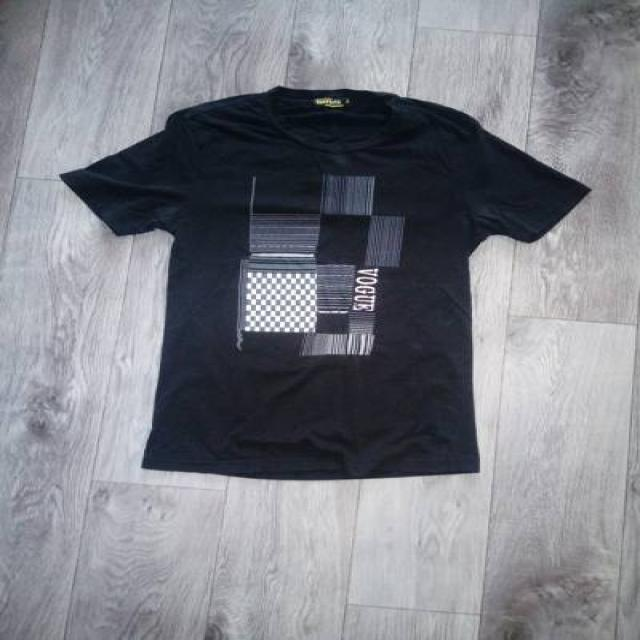shirt: (60, 88, 586, 482)
